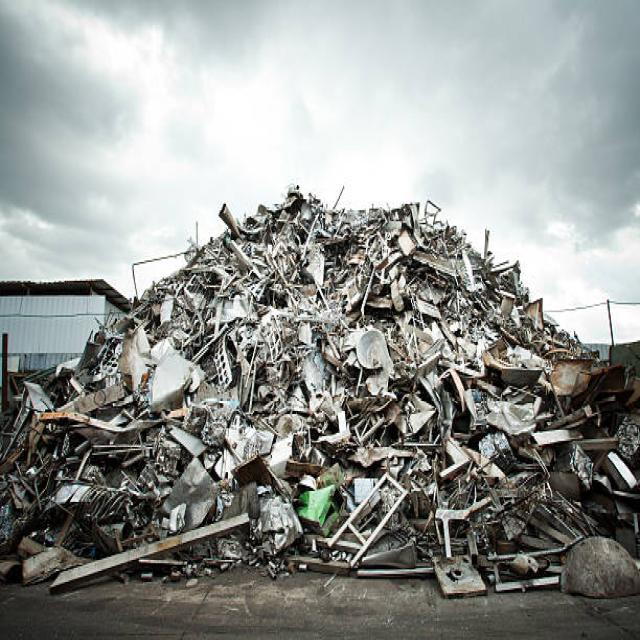metal: (45, 460, 259, 599), (445, 364, 589, 554), (396, 196, 527, 362), (333, 469, 428, 579), (259, 309, 337, 394), (148, 348, 192, 403), (353, 329, 391, 372)
